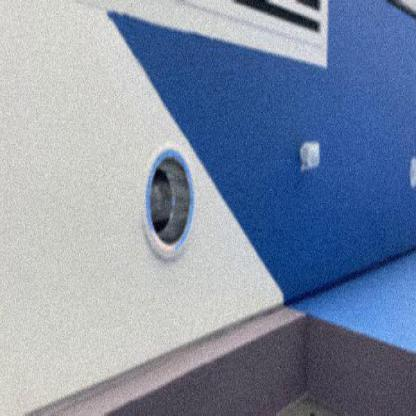light_off: (134, 119, 202, 263)
